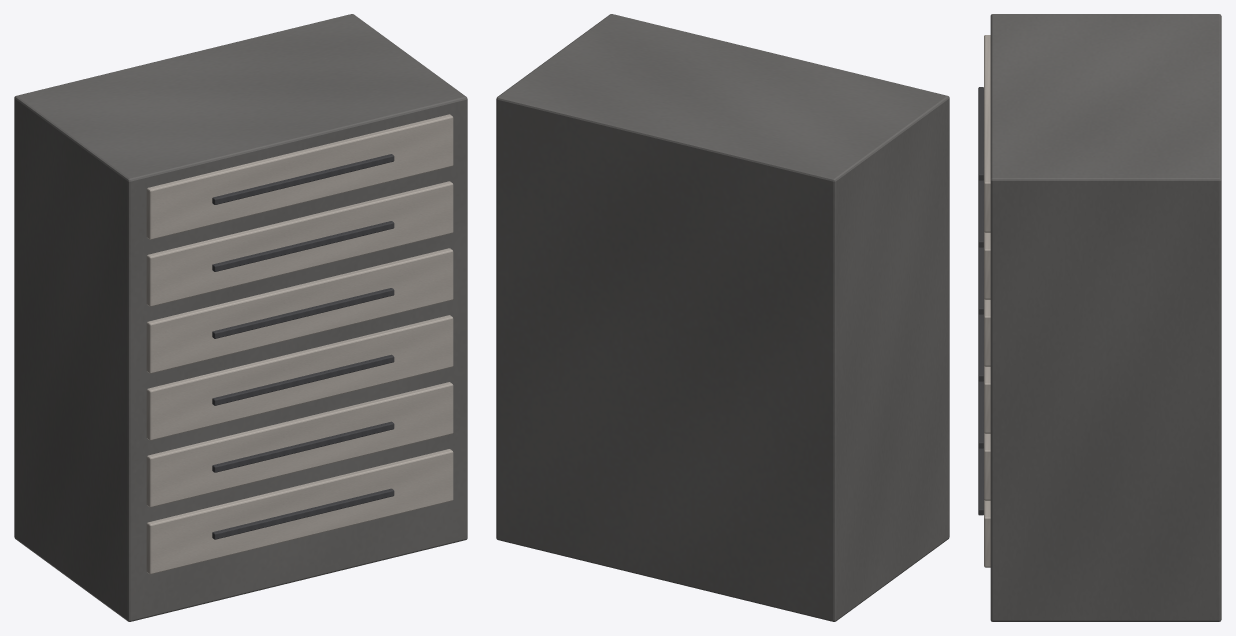
File: tool_cabinet.glb
3 renders of one model, left to right at view 1: azimuth 30°, elevation 25°; view 2: azimuth 150°, elevation 25°; view 3: azimuth 270°, elevation 25°, orthographic.
Visible parts, largest first — view 1: cabinet.002, MESH_MAT_Painted_Ivory.196, MESH_MAT_Dark_Metal.244; view 2: cabinet.002; view 3: cabinet.002, MESH_MAT_Painted_Ivory.196, MESH_MAT_Dark_Metal.244.
Part boxes in pixels (box(x1,y1,x2,y2)): cabinet.002: box(14, 14, 467, 621); MESH_MAT_Painted_Ivory.196: box(146, 114, 453, 574); MESH_MAT_Dark_Metal.244: box(212, 154, 394, 539); cabinet.002: box(496, 14, 949, 621); cabinet.002: box(990, 14, 1221, 621); MESH_MAT_Painted_Ivory.196: box(984, 35, 990, 567); MESH_MAT_Dark_Metal.244: box(978, 87, 983, 515).
Bounding box in the file's own units: 0.85 × 1.06 × 0.526.
Materials: 3 (3 with a texture image).
